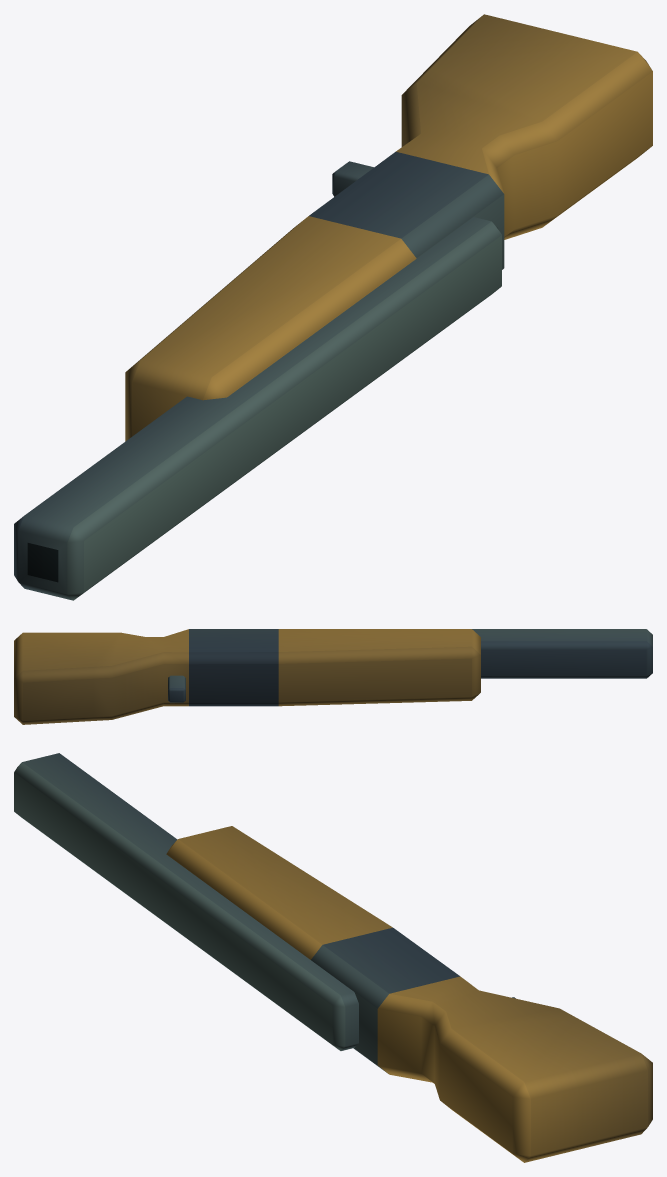
Rendered from rifle.fbx.
3 views of the same model, one above another, from view 1: azimuth 30°, elevation 25°; view 2: azimuth 150°, elevation 25°; view 3: azimuth 270°, elevation 25° (orthographic). The views are drawn at different scales.
Parts seen in each view (by area): view 1: rifle; view 2: rifle; view 3: rifle.
Part boxes in pixels (<box>): rifle: <box>14,14,652,600</box>; rifle: <box>14,629,652,724</box>; rifle: <box>14,753,652,1162</box>.
Bounding box in the file's own units: 107 × 11.51 × 82.39.
Materials: 1 (1 with a texture image).
